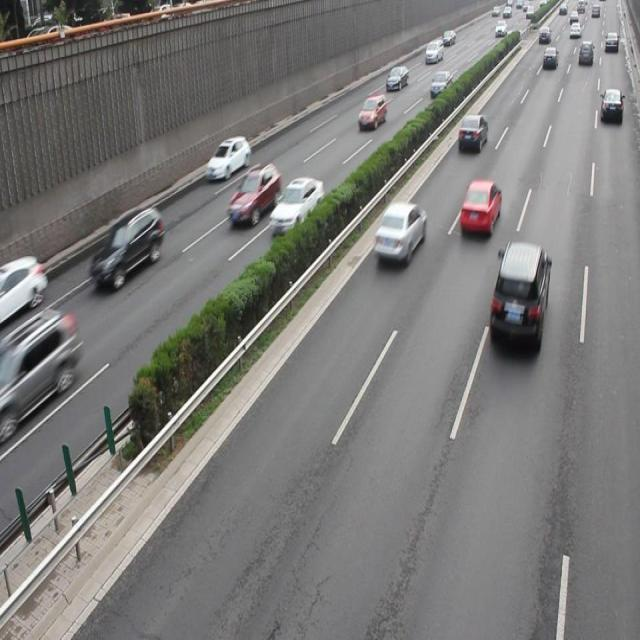car: (9, 308, 78, 424), (488, 241, 549, 353), (89, 205, 164, 288), (372, 201, 426, 266), (269, 176, 324, 238), (227, 162, 280, 226), (1, 255, 46, 321), (457, 180, 501, 238), (204, 134, 250, 180), (456, 114, 487, 154), (358, 94, 386, 129), (599, 87, 622, 125)
